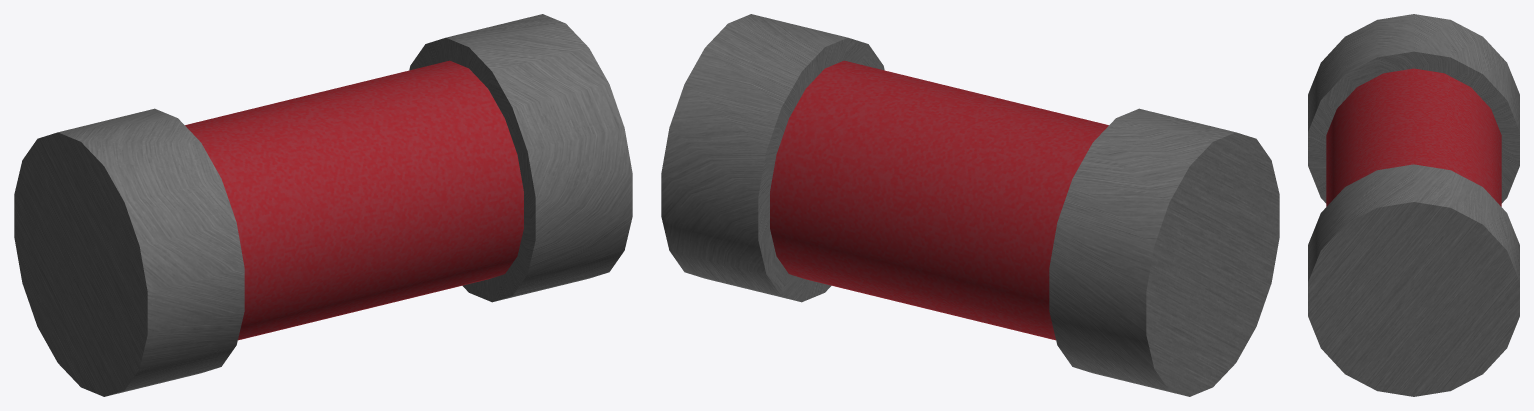
Rendered from TheFuse.fbx.
The picture shows the model from 3 angles, left to right: view 1: azimuth 30°, elevation 25°; view 2: azimuth 150°, elevation 25°; view 3: azimuth 270°, elevation 25°; orthographic projection. The views are drawn at different scales.
Parts seen in each view (by area): view 1: Cylinder001; view 2: Cylinder001; view 3: Cylinder001.
Part boxes in pixels (bbox=[...]): Cylinder001: bbox=[14, 14, 632, 396]; Cylinder001: bbox=[661, 14, 1279, 396]; Cylinder001: bbox=[1308, 14, 1519, 396].
Bounding box in the file's own units: 50 × 24.19 × 23.82.
